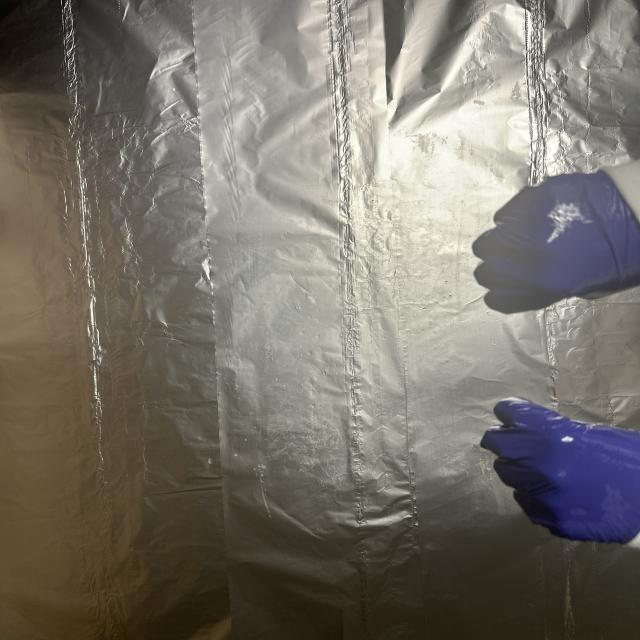gloves_contaminated: (472, 172, 640, 313), (481, 397, 640, 544)
